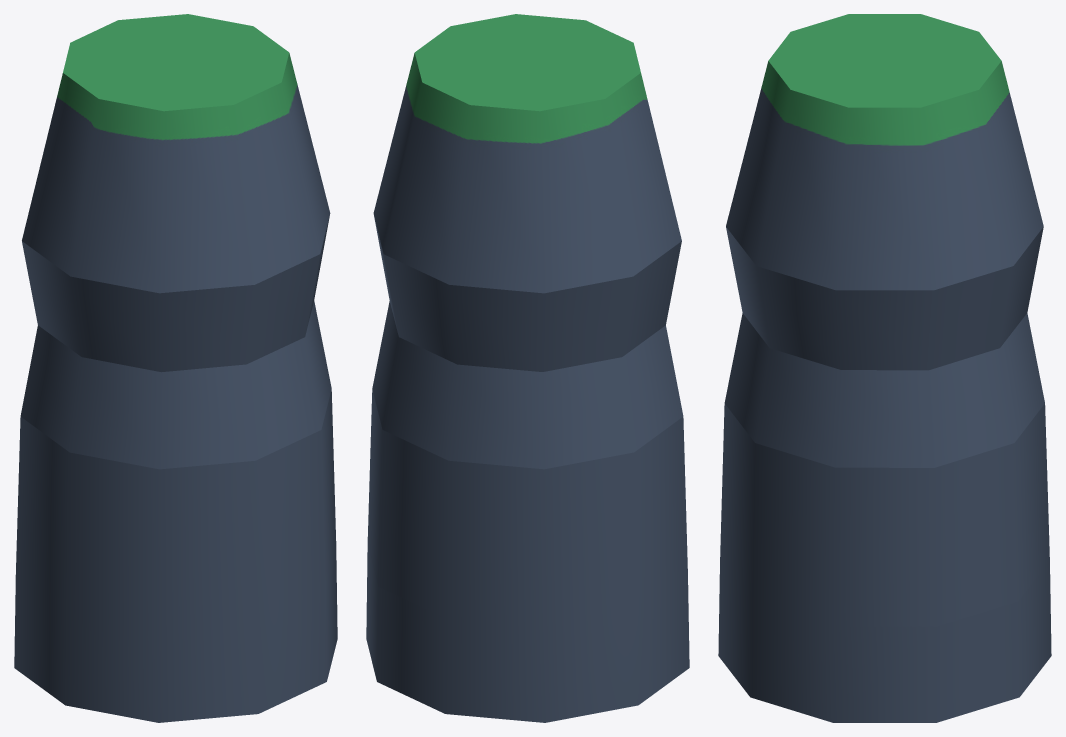
The model's file is frl_apartment_kitchen_utensil_09.glb.
3 renders of one model, left to right at view 1: azimuth 30°, elevation 25°; view 2: azimuth 150°, elevation 25°; view 3: azimuth 270°, elevation 25°, orthographic.
Visible parts, largest first — view 1: frl_apartment_kitchen_utensil_09; view 2: frl_apartment_kitchen_utensil_09; view 3: frl_apartment_kitchen_utensil_09.
Boxes of the visible parts, x1,y1,x2,y2 form: frl_apartment_kitchen_utensil_09: (14, 14, 337, 722); frl_apartment_kitchen_utensil_09: (366, 14, 689, 722); frl_apartment_kitchen_utensil_09: (718, 14, 1051, 722).
Size of the model in its own units: 0.0984 by 0.2042 by 0.1035.
1 material, 1 textured.
